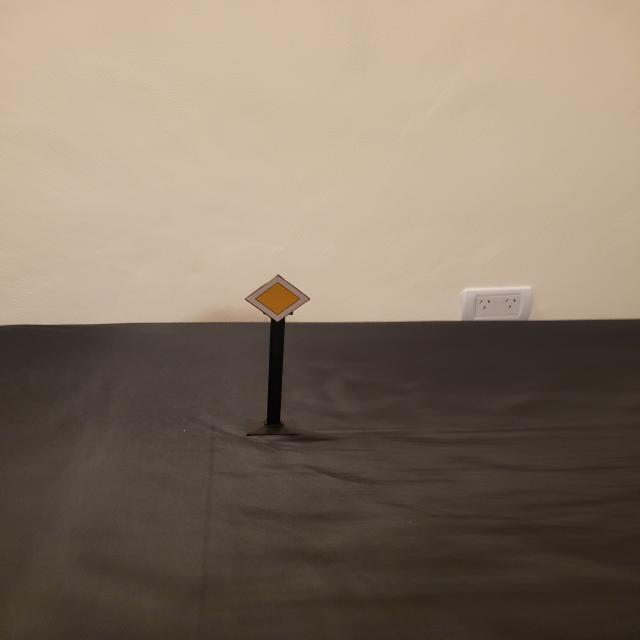priority: (244, 274, 310, 322)
